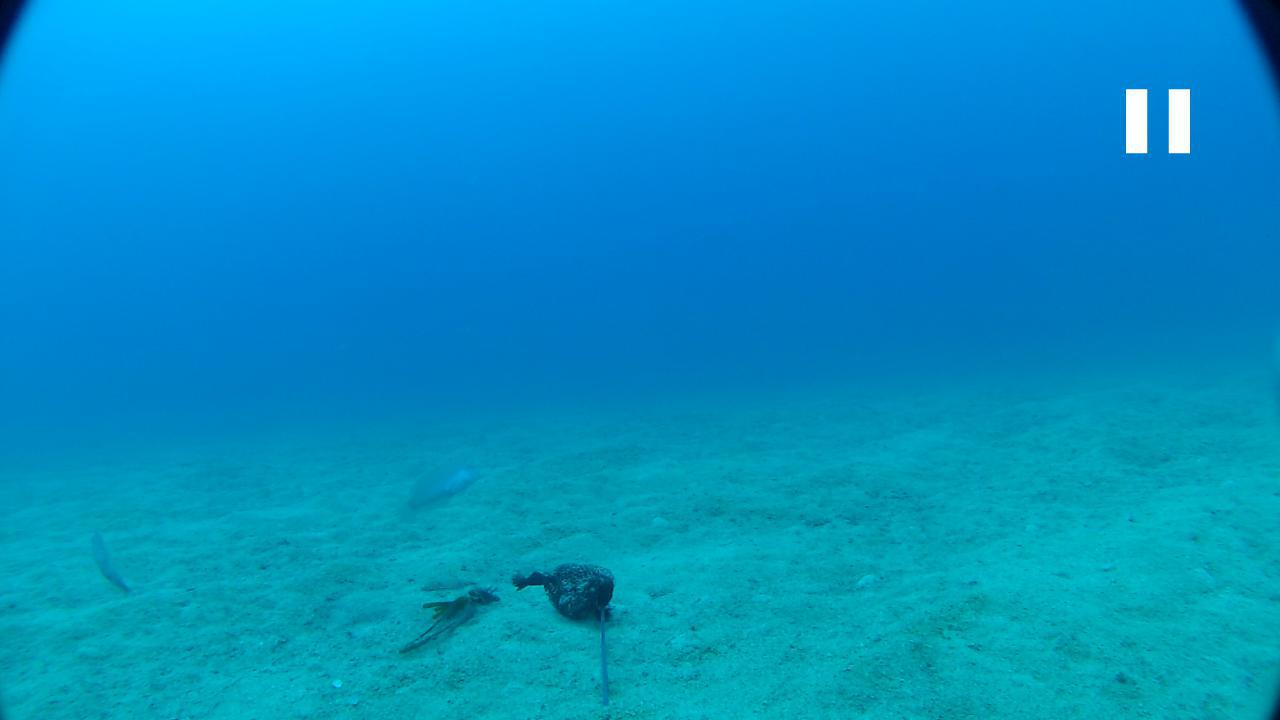bothus: (415, 573, 474, 594)
raor: (399, 452, 486, 524), (88, 530, 135, 596)
